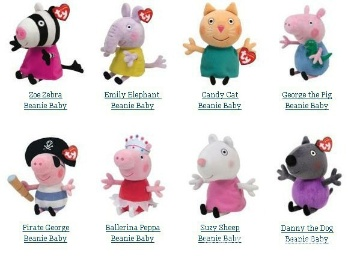Peppa: (102, 134, 164, 216)
